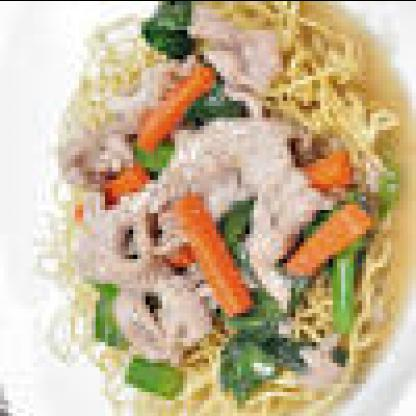Laadna: (33, 1, 412, 412)
